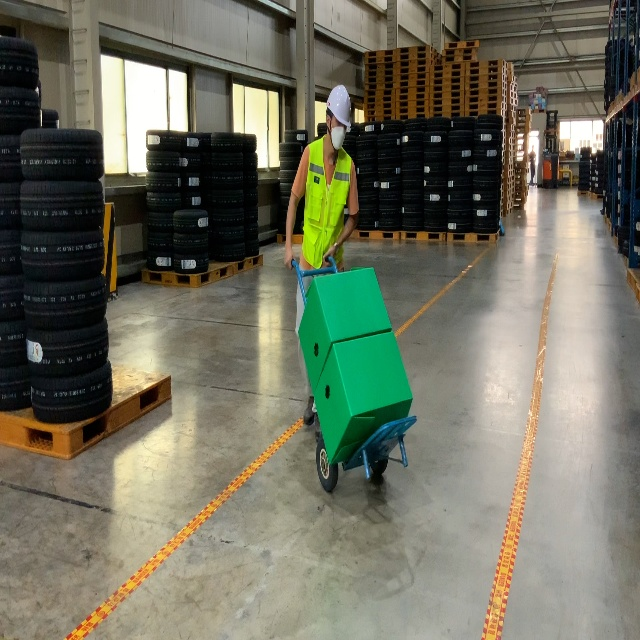Box: (313, 330, 413, 468), (298, 267, 393, 396)
Worker: (283, 83, 360, 427)
